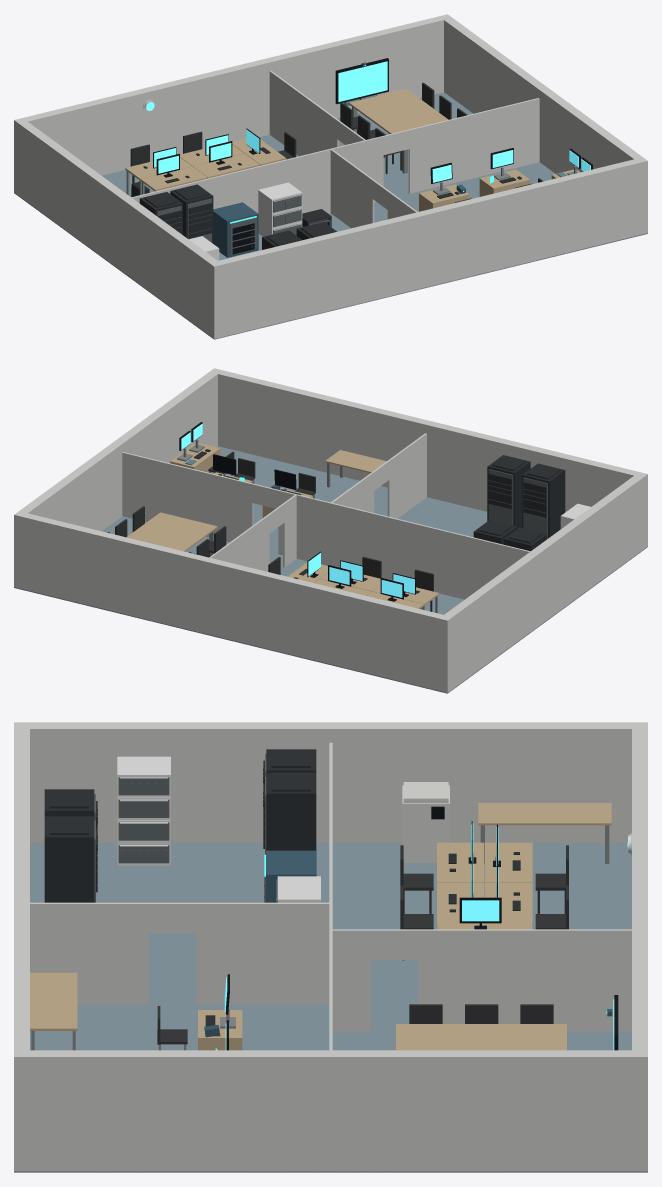
The model's file is GeneralCompany.glb.
3 renders of one model, top to bottom at view 1: azimuth 30°, elevation 25°; view 2: azimuth 150°, elevation 25°; view 3: azimuth 270°, elevation 25°, orthographic. The views are drawn at different scales.
Parts seen in each view (by area): view 1: Wall_Outer_South, Wall_Outer_North, Wall_Outer_West, Wall_Divider_TopBottom, Wall_Outer_East, Room_Floor, Wall_Divider_Workspace_Meeting, Wall_Divider_Admin_Server, Desk_Top.006, Conf_ScreenGlow.001, BkDev_Body.001, Desk_Top.007 (+7 smaller); view 2: Wall_Outer_North, Wall_Outer_South, Wall_Divider_TopBottom, Wall_Outer_West, Wall_Outer_East, Room_Floor, Wall_Divider_Admin_Server, Wall_Divider_Workspace_Meeting, Desk_Top.006, Rack_Body.002, Rack_Body.004, Desk_Top.008 (+3 smaller); view 3: Wall_Outer_East, Wall_Outer_West, Room_Floor, Wall_Divider_Admin_Server, Wall_Divider_Workspace_Meeting, Wall_Outer_North, Wall_Outer_South, Desk_Top.006, Rack_Body.004, Rack_Body.001, Desk_Top.005, Desk_Top.008 (+20 smaller).
Part boxes in pixels (<box>): Wall_Outer_South: <box>209,159,647,339</box>; Wall_Outer_North: <box>14,14,451,195</box>; Wall_Outer_West: <box>14,119,222,338</box>; Wall_Divider_TopBottom: <box>113,98,539,264</box>; Wall_Outer_East: <box>439,14,647,234</box>; Room_Floor: <box>14,92,647,339</box>; Wall_Divider_Workspace_Meeting: <box>269,70,365,156</box>; Wall_Divider_Admin_Server: <box>330,148,417,228</box>; Desk_Top.006: <box>349,88,448,133</box>; Conf_ScreenGlow.001: <box>338,61,387,101</box>; BkDev_Body.001: <box>213,202,258,257</box>; Desk_Top.007: <box>140,166,207,191</box>; Wall_Outer_North: <box>14,513,452,692</box>; Wall_Outer_South: <box>210,369,647,546</box>; Wall_Divider_TopBottom: <box>122,452,547,619</box>; Wall_Outer_West: <box>439,474,647,692</box>; Wall_Outer_East: <box>14,368,222,588</box>; Room_Floor: <box>14,446,647,693</box>; Wall_Divider_Admin_Server: <box>331,433,426,518</box>; Wall_Divider_Workspace_Meeting: <box>195,495,296,631</box>; Desk_Top.006: <box>126,512,217,551</box>; Rack_Body.002: <box>522,463,565,538</box>; Rack_Body.004: <box>487,455,530,529</box>; Desk_Top.008: <box>325,450,386,473</box>; Wall_Outer_East: <box>14,1050,647,1171</box>; Wall_Outer_West: <box>14,722,647,842</box>; Room_Floor: <box>14,843,647,1172</box>; Wall_Divider_Admin_Server: <box>30,902,331,1004</box>; Wall_Divider_Workspace_Meeting: <box>331,929,631,1031</box>; Wall_Outer_North: <box>632,722,647,1171</box>; Wall_Outer_South: <box>14,722,29,1170</box>; Desk_Top.006: <box>396,1024,566,1050</box>; Rack_Body.004: <box>44,816,94,902</box>; Rack_Body.001: <box>266,772,316,850</box>; Desk_Top.005: <box>478,803,611,825</box>; Desk_Top.008: <box>30,972,77,1030</box>.
Size of the model in its own units: 50 by 8.05 by 40.
